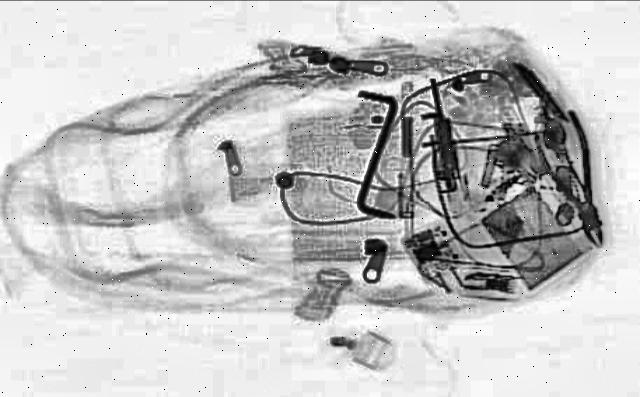Pliers: (518, 108, 628, 248)
